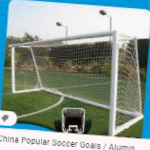goals: (10, 30, 144, 137)
